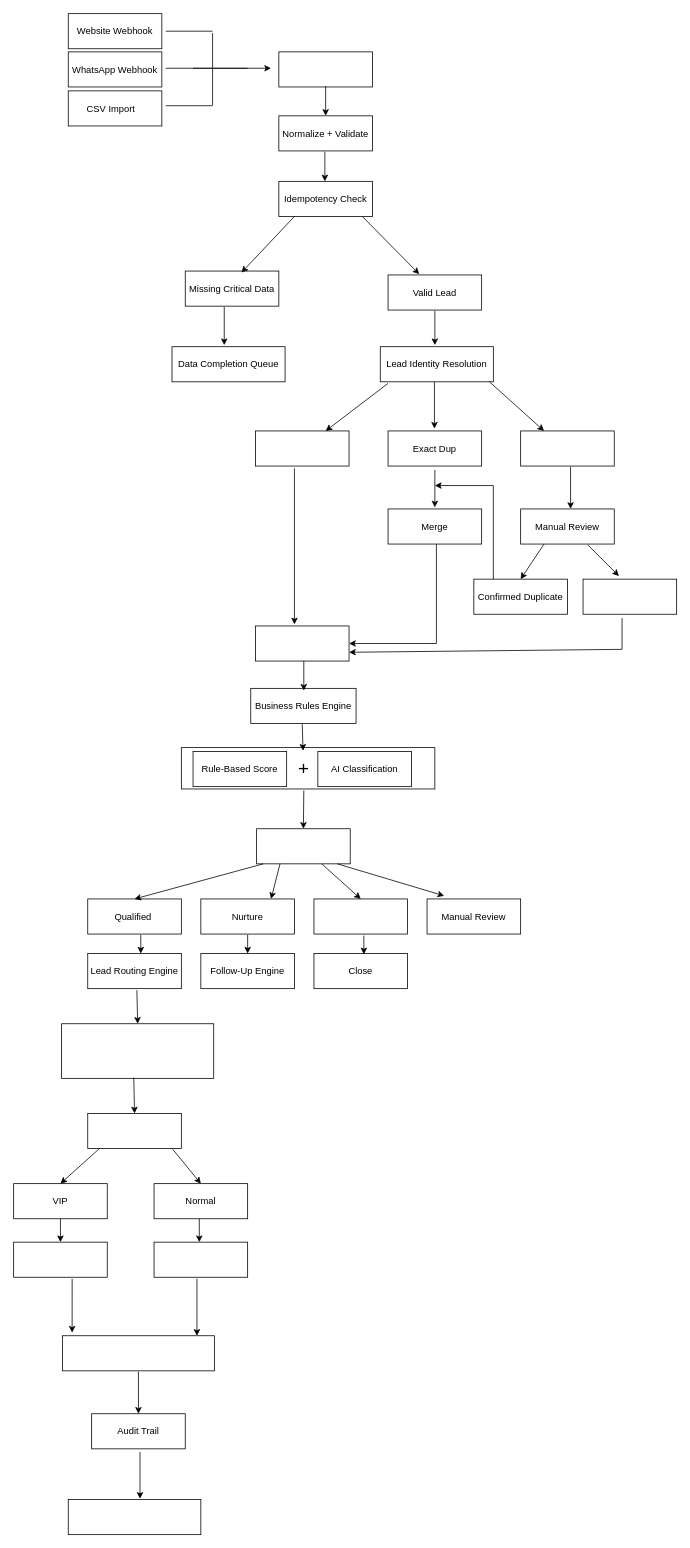
This 690x1548 diagram has some shape labels left out. Here are the shapes that lost their labels. From the top down, the box of each, then its label:
(278, 51, 372, 87): Intake Workflow
(255, 430, 349, 466): Unique
(520, 430, 614, 466): Likely Dup
(582, 578, 677, 614): Not Duplicate
(255, 625, 349, 661): Enrichment
(256, 828, 350, 864): Qualification Decision
(313, 898, 408, 934): Unqualified
(61, 1023, 214, 1078): CRM Synchronization (Create/Update/Stage/Assignment)
(87, 1113, 181, 1149): Odoo CRM
(13, 1241, 107, 1277): Manager Approval
(153, 1241, 248, 1277): Sales Assign
(62, 1335, 214, 1371): Customer Communication
(67, 1499, 201, 1535): Operational Dashboard
